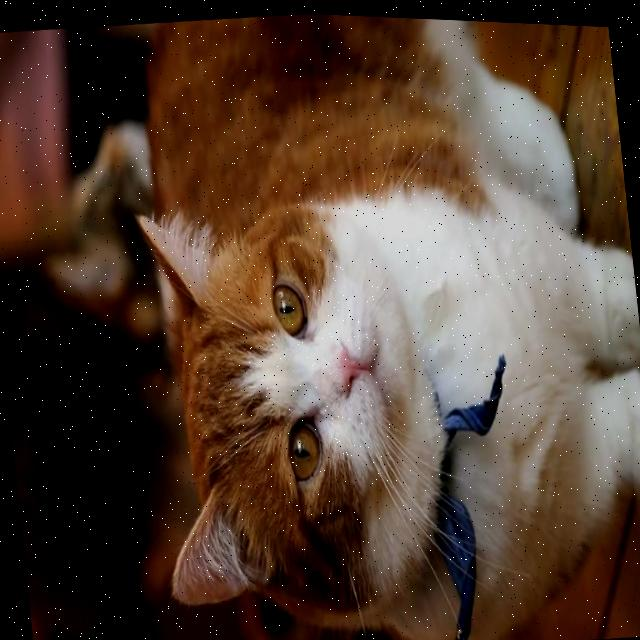Munchkin: (102, 4, 640, 640)
